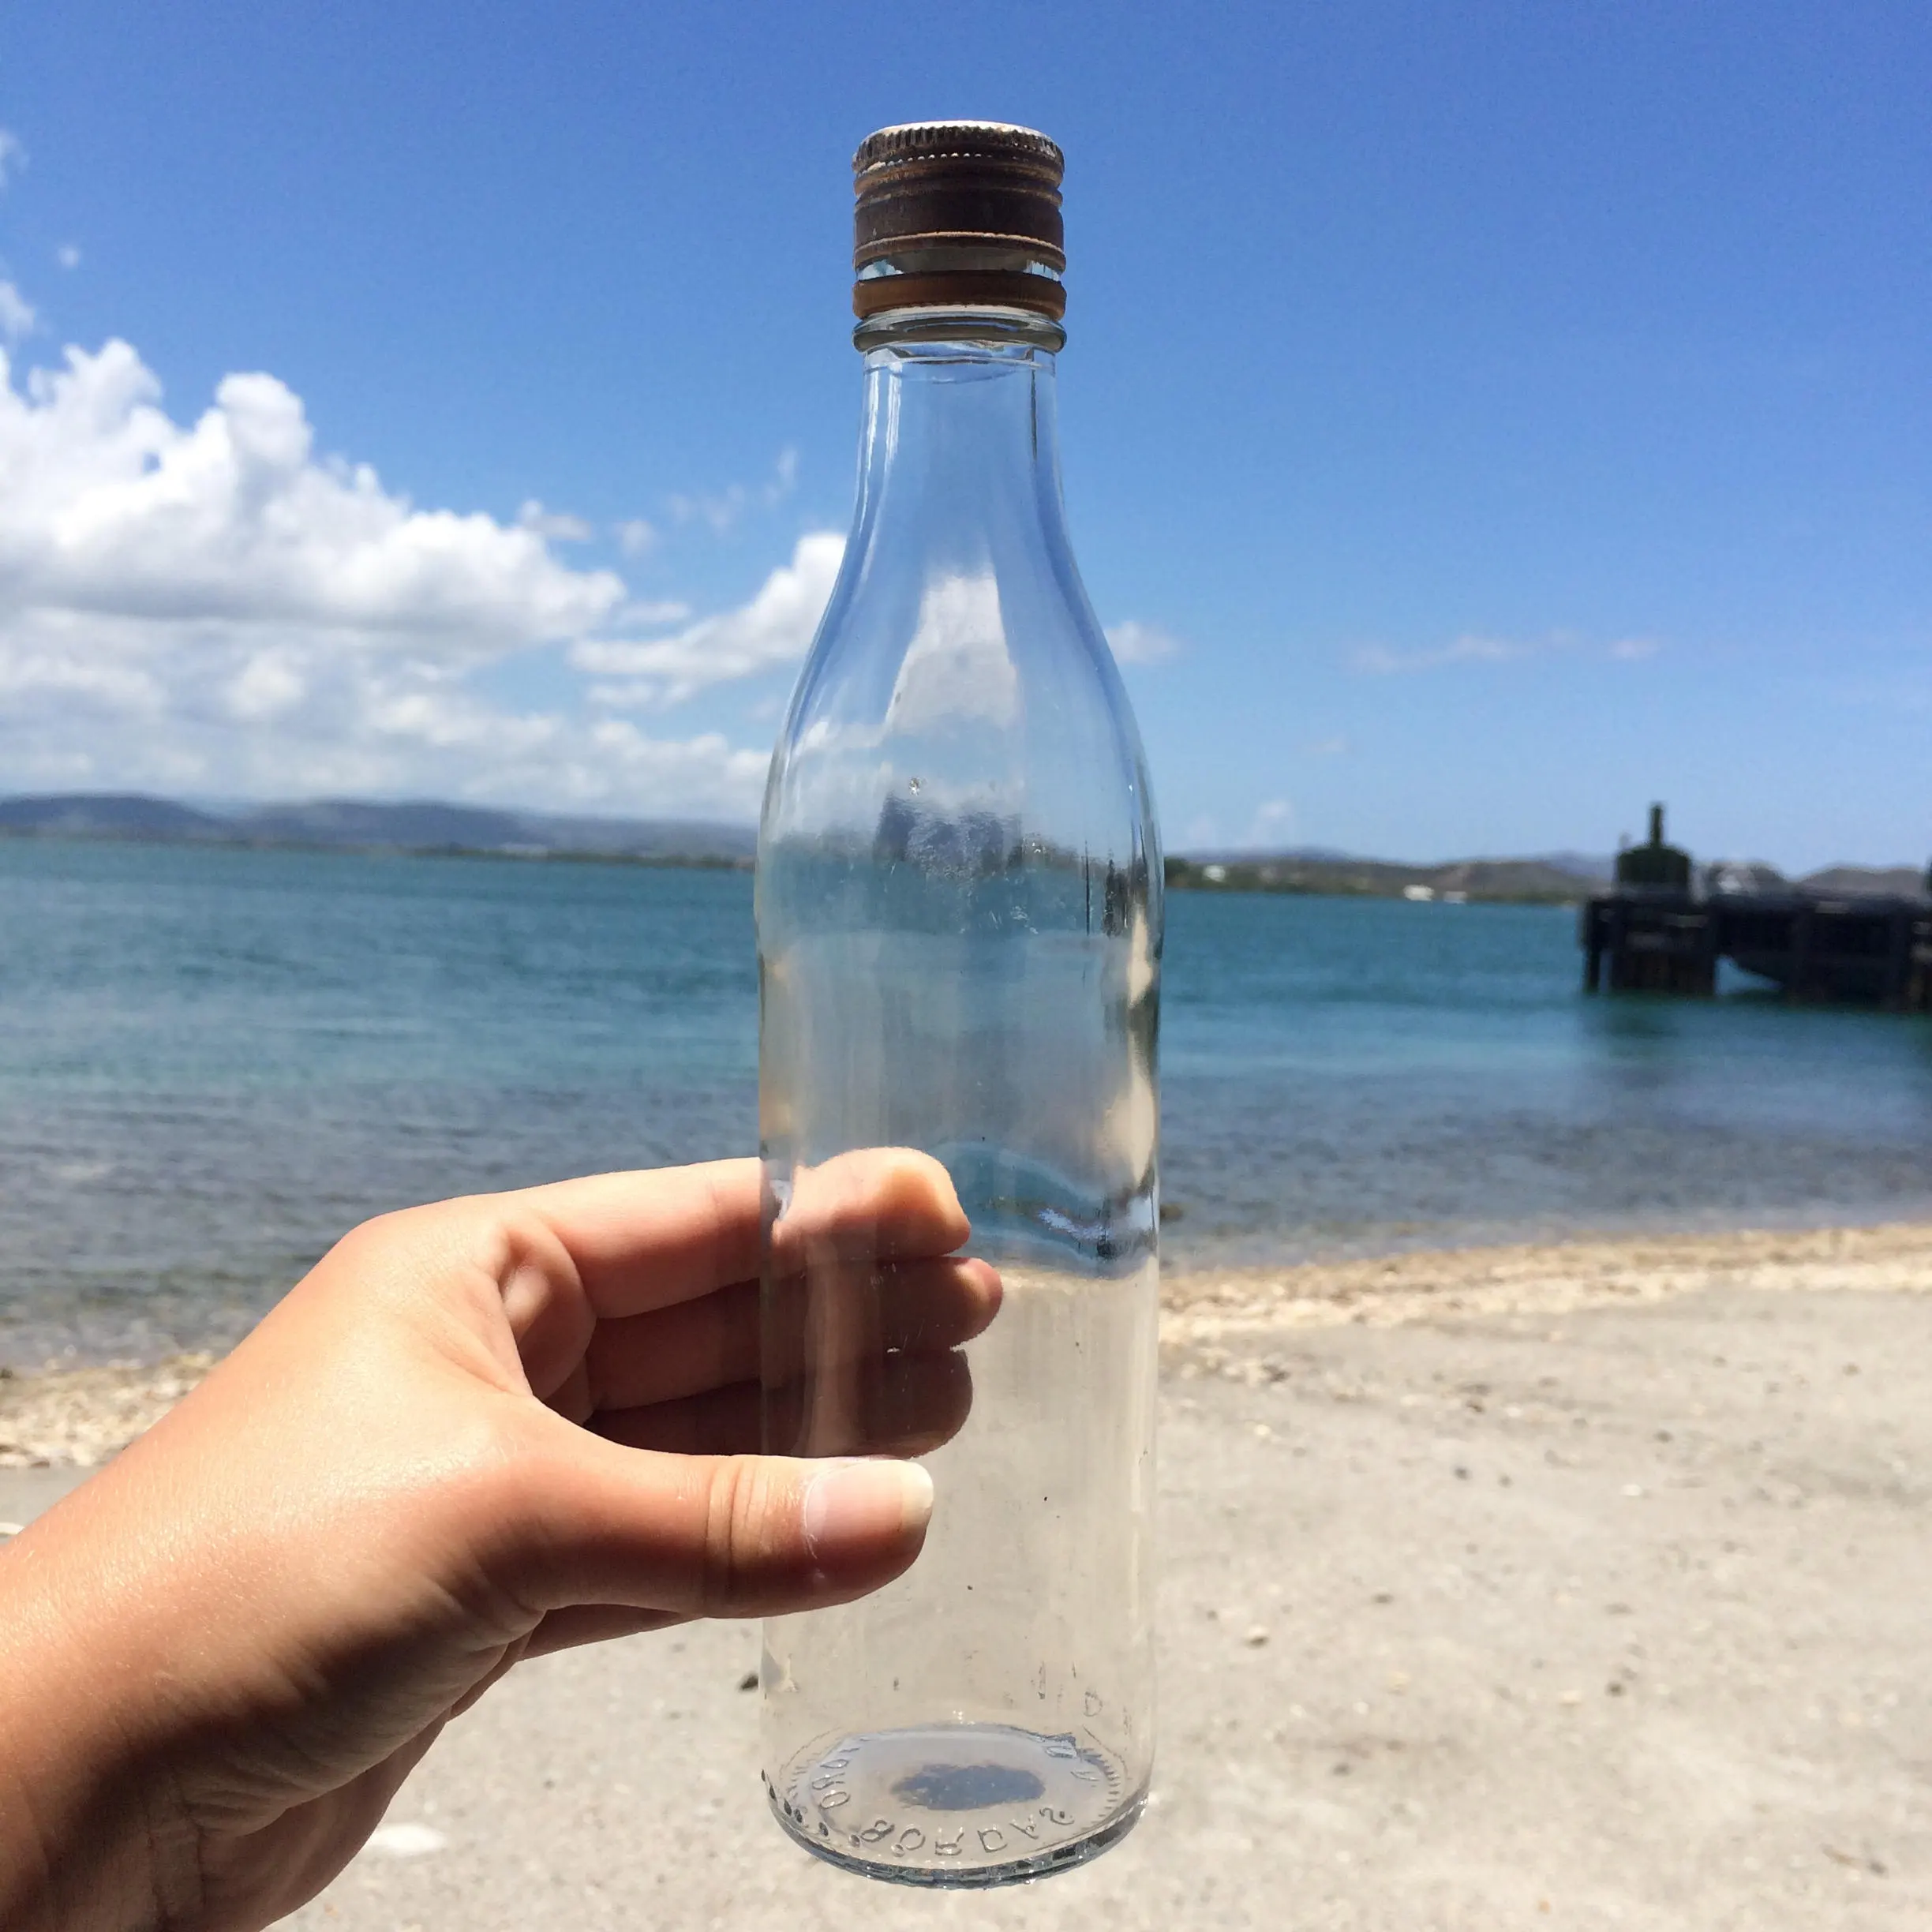glass_bottle: (729, 94, 1203, 1902)
